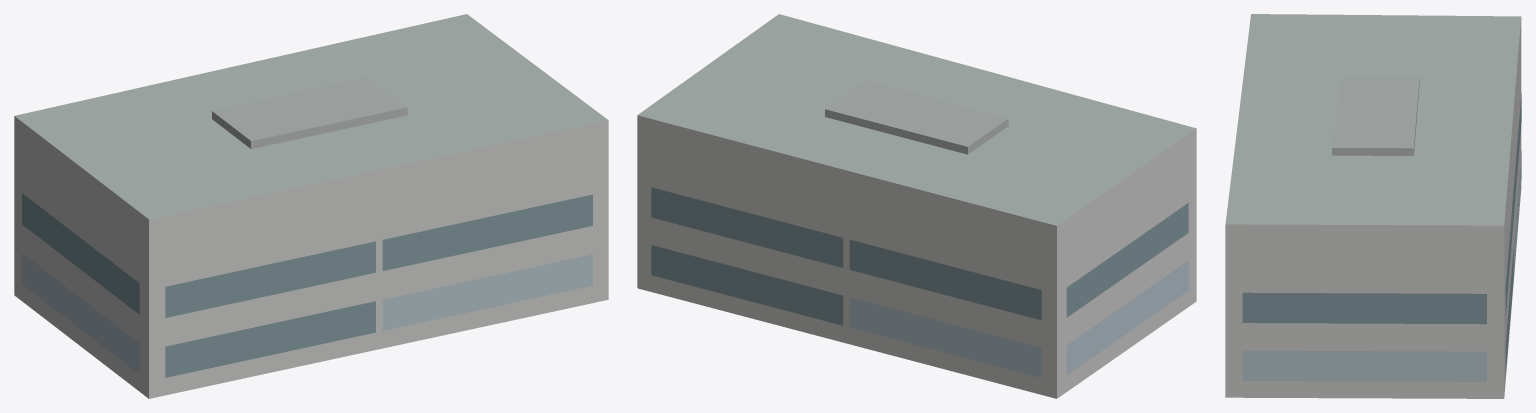
Rendered from named-apt-45db7491-5ecf-4246-b66b-3861942ed72b.glb.
3 views of the same model, side by side, from view 1: azimuth 30°, elevation 25°; view 2: azimuth 150°, elevation 25°; view 3: azimuth 270°, elevation 25° (orthographic). The views are drawn at different scales.
Visible parts, largest first — view 1: named-apt-45db7491-5ecf-4246-b66b-3861942ed72b; view 2: named-apt-45db7491-5ecf-4246-b66b-3861942ed72b; view 3: named-apt-45db7491-5ecf-4246-b66b-3861942ed72b.
Part boxes in pixels (box(x1,y1,x2,y2)): named-apt-45db7491-5ecf-4246-b66b-3861942ed72b: box(14, 14, 608, 398); named-apt-45db7491-5ecf-4246-b66b-3861942ed72b: box(637, 14, 1196, 398); named-apt-45db7491-5ecf-4246-b66b-3861942ed72b: box(1225, 14, 1521, 398).
Bounding box in the file's own units: 24.02 × 9.56 × 14.17.
